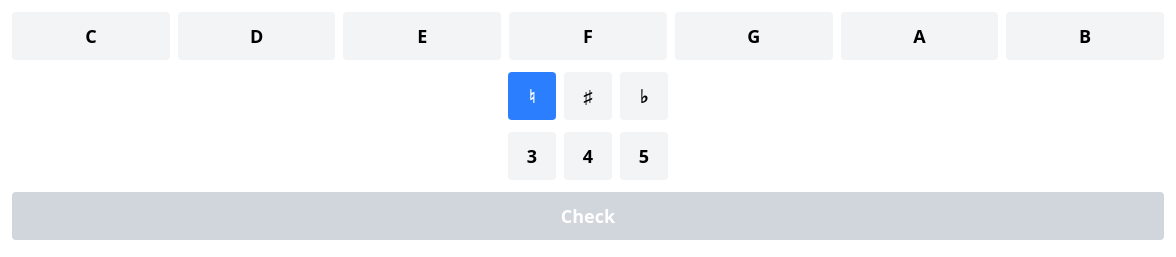
it: NotePicker › Check button is enabled once letter and octave are both selected
Click the button named "Note C": {"x": 91, "y": 36} [12,12,170,60]
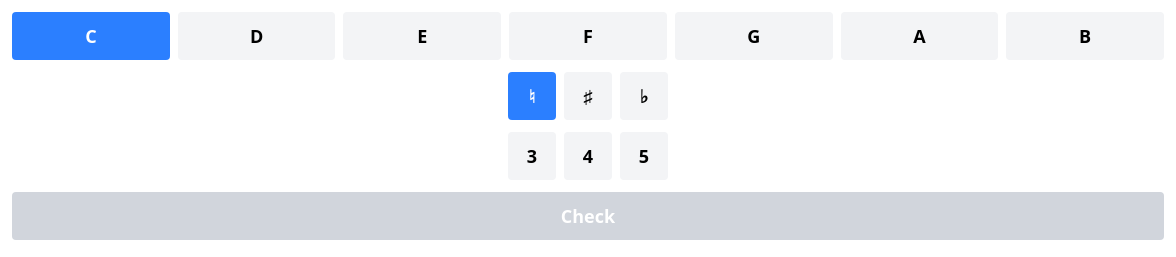
Click the button named "Octave 4": {"x": 588, "y": 156} [564,132,612,180]
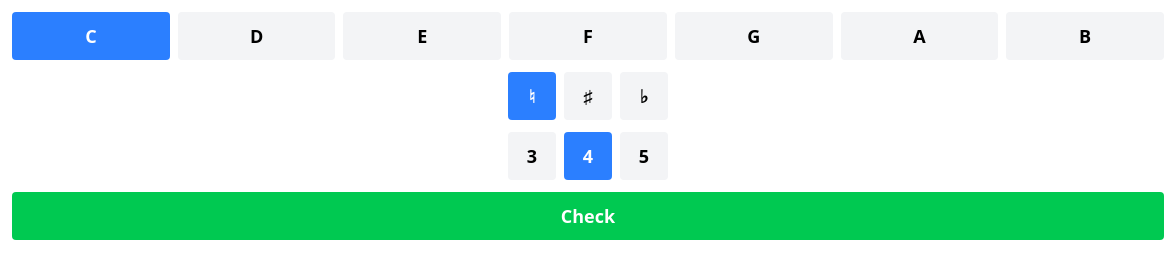
expect the button with aria-label "Submit answer" is enabled: met, box [12,192,1164,240]
